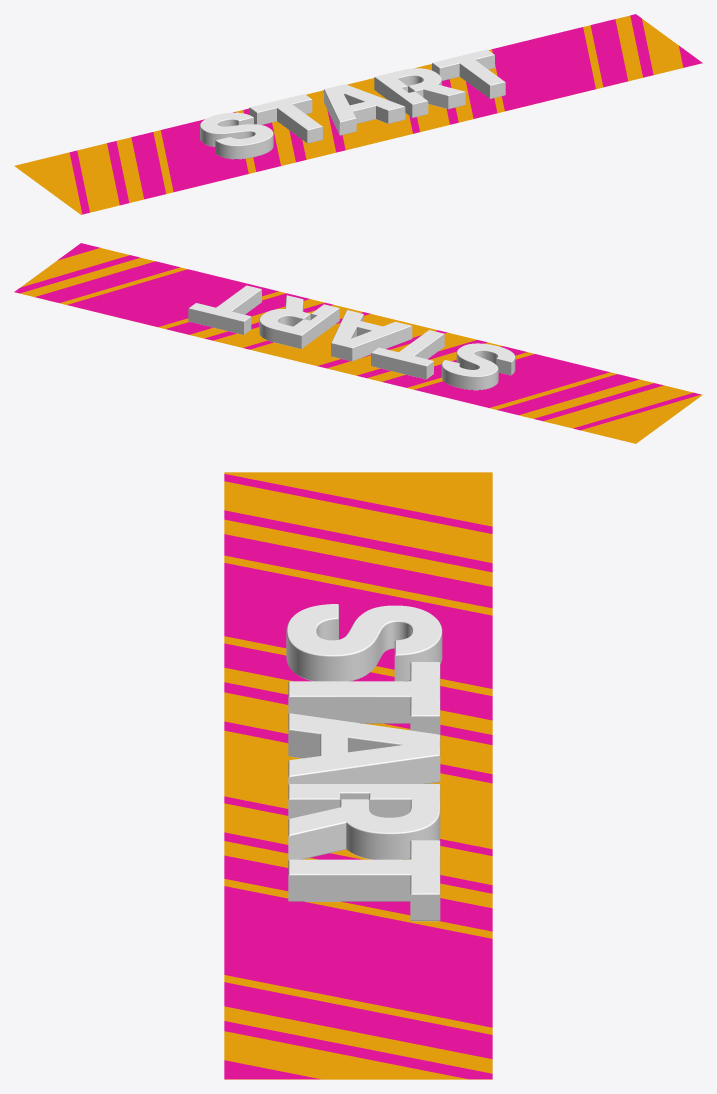
The model's file is start.glb.
The picture shows the model from 3 angles, top to bottom: view 1: azimuth 30°, elevation 25°; view 2: azimuth 150°, elevation 25°; view 3: azimuth 270°, elevation 25°; orthographic projection. The views are drawn at different scales.
Visible parts, largest first — view 1: Shape 1 (×9), Shape 0, Text; view 2: Shape 1 (×10), Shape 0, Text; view 3: Shape 1 (×13), Shape 0, Text.
Part boxes in pixels (x1=…): Shape 1 (×9): x1=69, y1=14, x2=653, y2=214; Shape 0: x1=14, y1=15, x2=690, y2=214; Text: x1=200, y1=49, x2=505, y2=159; Shape 1 (×10): x1=14, y1=255, x2=700, y2=430; Shape 0: x1=19, y1=248, x2=702, y2=443; Text: x1=188, y1=285, x2=515, y2=390; Shape 1 (×13): x1=224, y1=474, x2=492, y2=1079; Shape 0: x1=224, y1=472, x2=492, y2=1079; Text: x1=286, y1=604, x2=442, y2=921.
Bounding box in the file's own units: 922 × 20 × 172.
